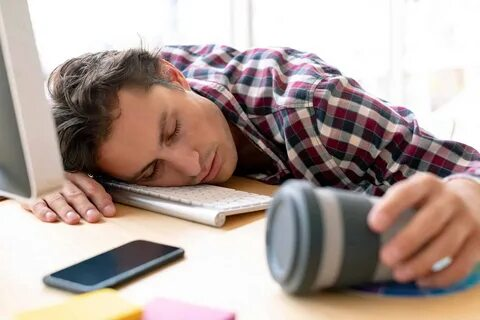sleep: (42, 43, 480, 286)
